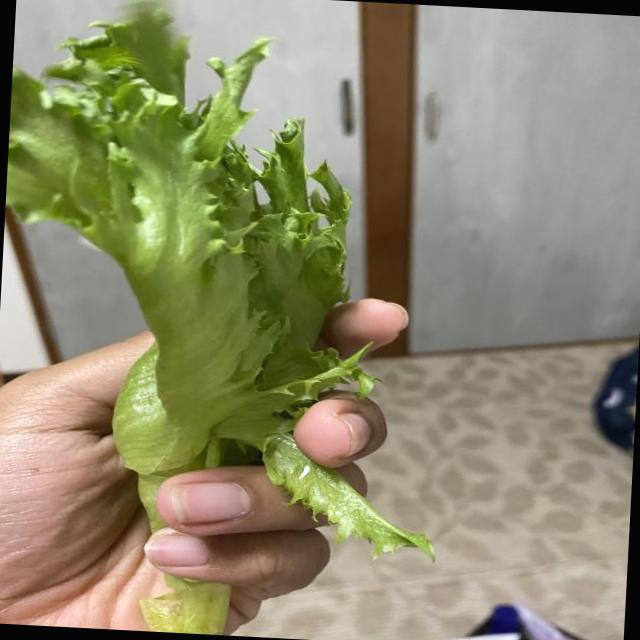Lettuce-Ready-to-Harvest: (6, 2, 433, 556)
